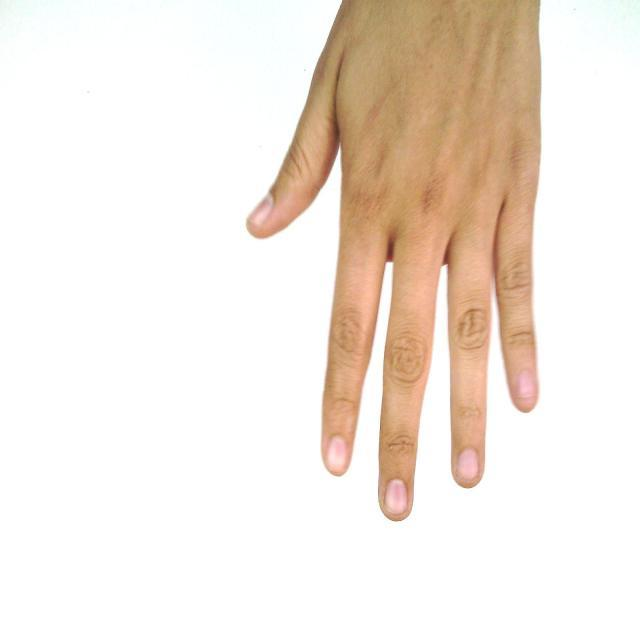Fingernail: (248, 192, 274, 227), (385, 479, 408, 515), (327, 435, 347, 472), (457, 448, 478, 483), (517, 369, 536, 397)
